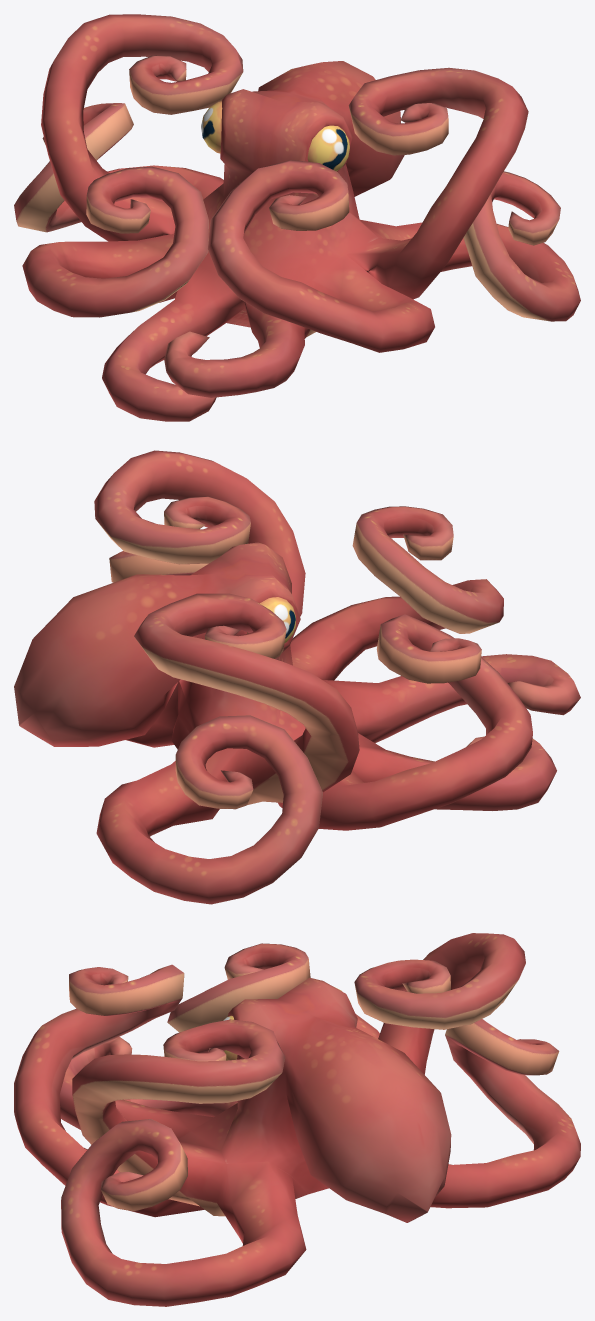
The model's file is octopus_big.fbx.
3 views of the same model, one above another, from view 1: azimuth 30°, elevation 25°; view 2: azimuth 150°, elevation 25°; view 3: azimuth 270°, elevation 25° (orthographic). The views are drawn at different scales.
Visible parts, largest first — view 1: octopus_big; view 2: octopus_big; view 3: octopus_big.
Boxes of the visible parts, bbox=[...] form: octopus_big: bbox=[14, 14, 580, 421]; octopus_big: bbox=[14, 450, 580, 904]; octopus_big: bbox=[14, 933, 580, 1306].
Bounding box in the file's own units: 60927 × 29100 × 62605.
Materials: 1 (1 with a texture image).
